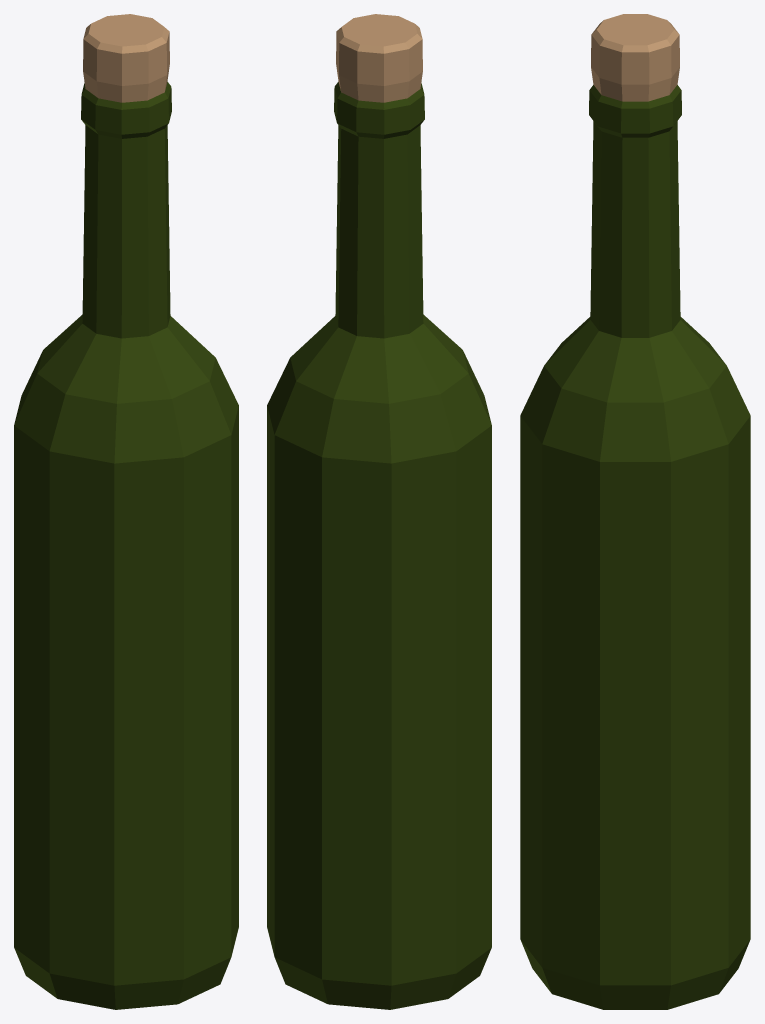
Rendered from Bottle A-col.glb.
3 views of the same model, side by side, from view 1: azimuth 30°, elevation 25°; view 2: azimuth 150°, elevation 25°; view 3: azimuth 270°, elevation 25° (orthographic).
Parts seen in each view (by area): view 1: Bottle A-col; view 2: Bottle A-col; view 3: Bottle A-col.
Part boxes in pixels (bbox=[...]): Bottle A-col: bbox=[14, 14, 238, 1009]; Bottle A-col: bbox=[267, 14, 491, 1009]; Bottle A-col: bbox=[520, 14, 750, 1009].
Size of the model in its own units: 0.0771 by 0.3644 by 0.0811.
